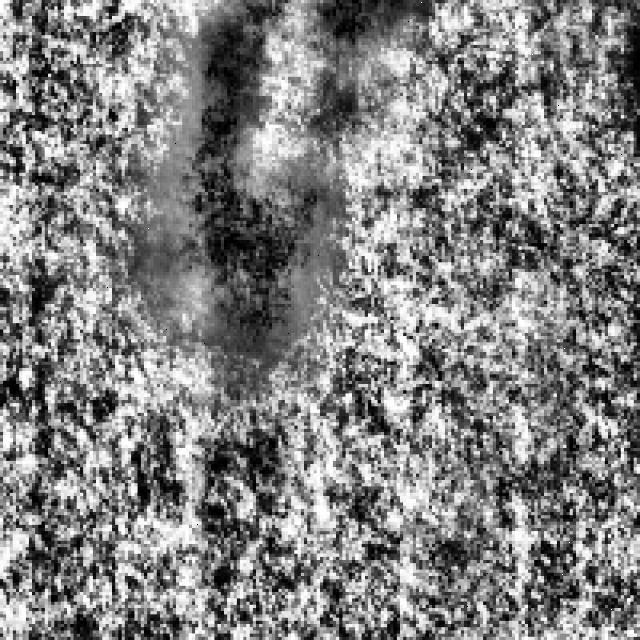Scratches: (157, 26, 333, 352), (314, 0, 422, 42)
